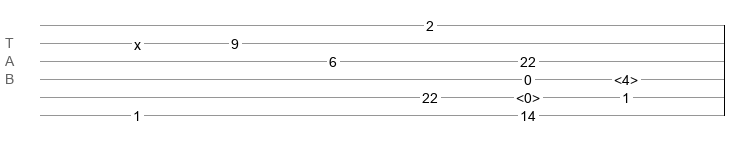0: (524, 72, 532, 82)
1: (133, 108, 141, 118), (622, 90, 630, 100)
14: (520, 108, 536, 118)
2: (426, 18, 434, 28)
22: (422, 90, 438, 100), (520, 54, 536, 64)
6: (329, 54, 337, 64)
9: (231, 36, 239, 46)
harmonic: (516, 90, 540, 100), (614, 72, 638, 82)
x: (134, 37, 141, 45)
